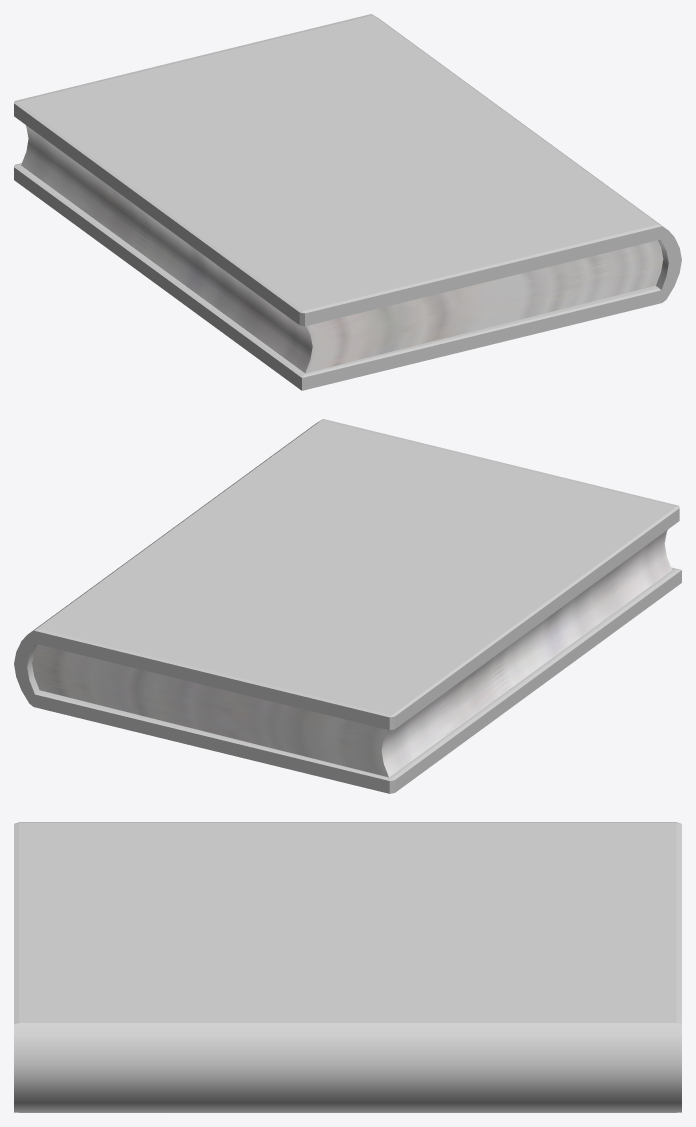
Rendered from Book.gltf.
3 renders of one model, top to bottom at view 1: azimuth 30°, elevation 25°; view 2: azimuth 150°, elevation 25°; view 3: azimuth 270°, elevation 25°, orthographic. The views are drawn at different scales.
Parts seen in each view (by area): view 1: Cube.001; view 2: Cube.001; view 3: Cube.001.
Part boxes in pixels (x1,y1,x2,y2): Cube.001: (14, 14, 681, 390); Cube.001: (14, 419, 681, 793); Cube.001: (14, 822, 681, 1112).
Size of the model in its own units: 0.204 by 0.04 by 0.27.
Materials: 2 (1 with a texture image).
